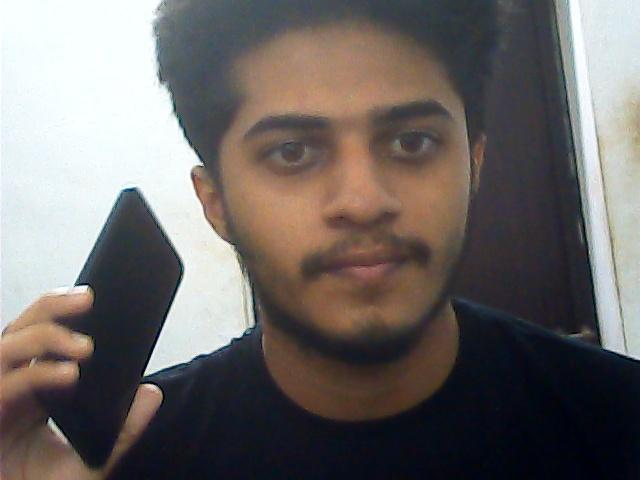PhoneUse: (12, 174, 200, 470)
SafeDriving: (368, 109, 454, 172), (248, 122, 338, 178)
